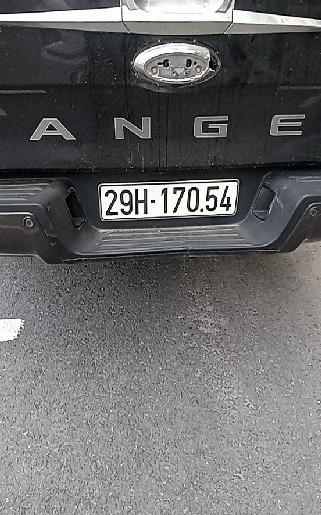Plate-iWeP: (103, 182, 237, 222)
